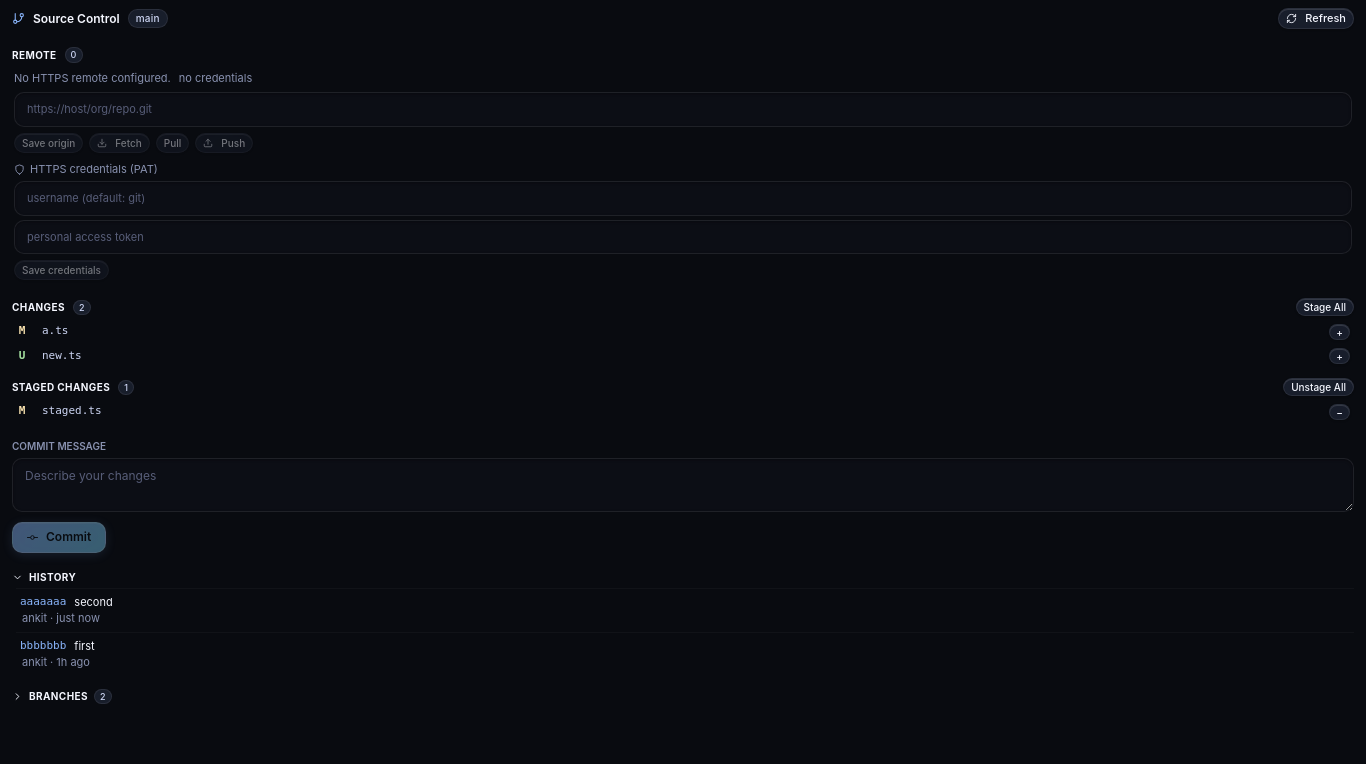
SourceControlPanel — M51 › 54. branch list shows the current branch badge
The image size is (1366, 764).
Click the button "BRANCHES 2".
click(58, 696)  # box [12, 686, 1354, 707]
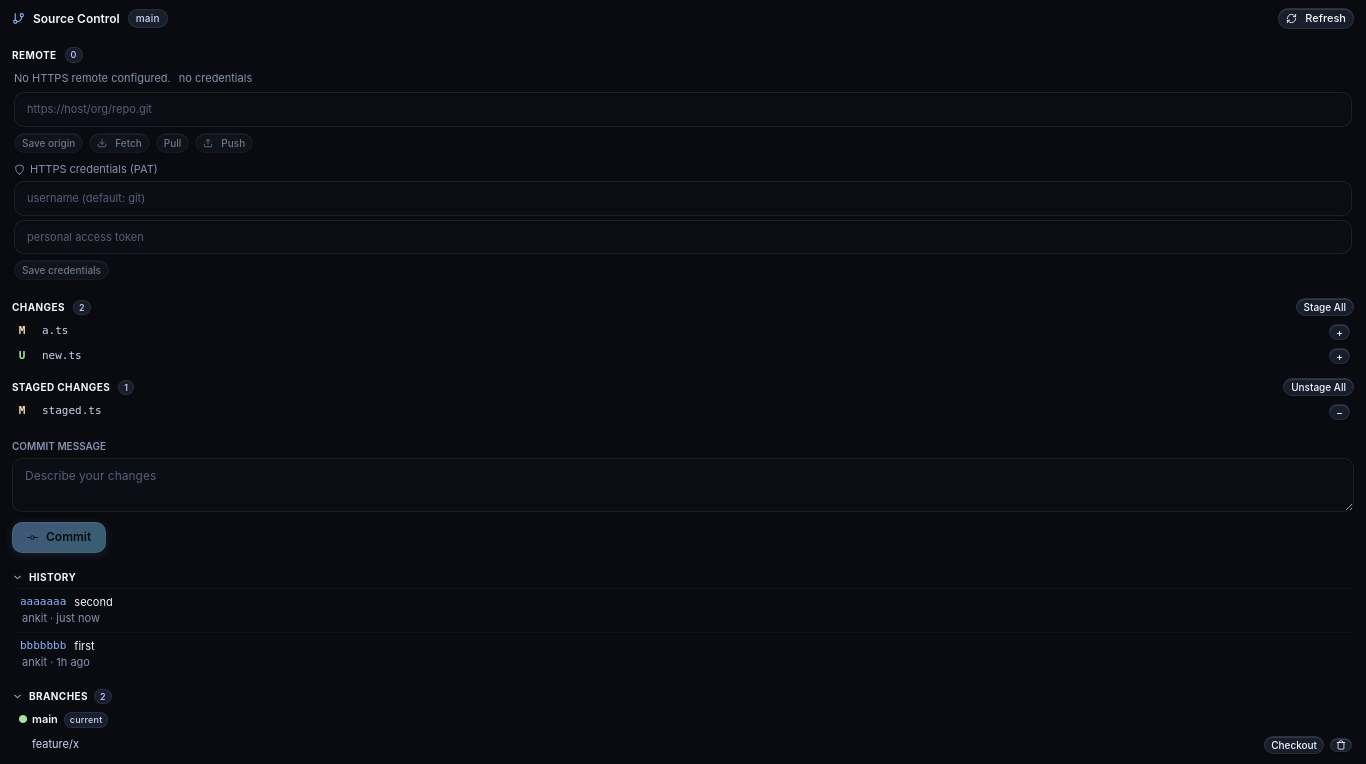
Now the text "feature/x" is shown, box [32, 737, 79, 751]
Now the text "current" is shown, box [64, 712, 108, 728]
